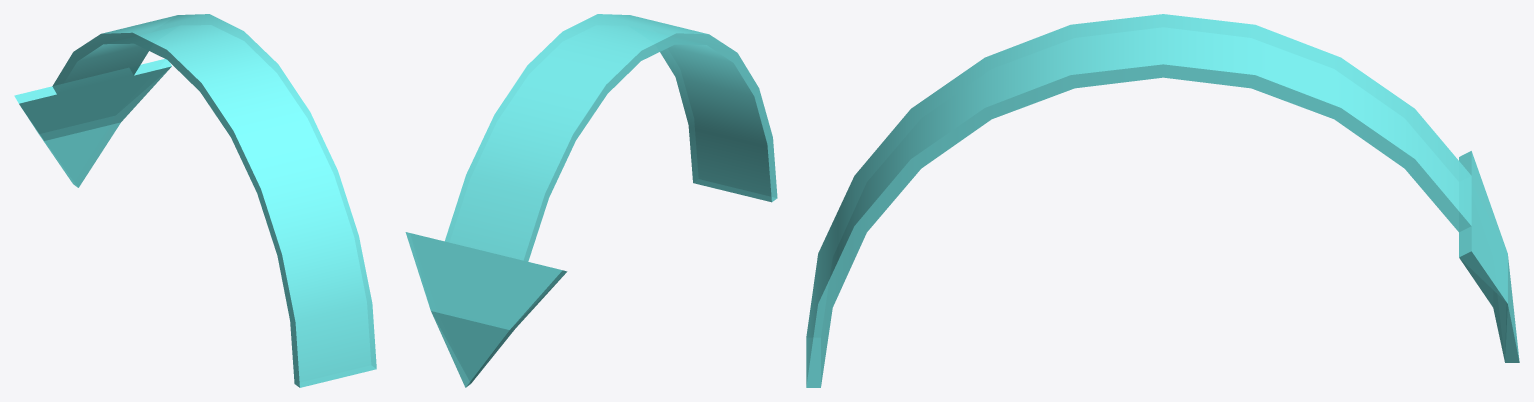
Rendered from arrow.glb.
The picture shows the model from 3 angles, left to right: view 1: azimuth 30°, elevation 25°; view 2: azimuth 150°, elevation 25°; view 3: azimuth 270°, elevation 25°; orthographic projection. The views are drawn at different scales.
Visible parts, largest first — view 1: Material2; view 2: Material2; view 3: Material2.
Part boxes in pixels (<box>): Material2: <box>14,14,376,387</box>; Material2: <box>405,14,777,387</box>; Material2: <box>806,14,1519,387</box>.
Bounding box in the file's own units: 8 × 12.01 × 24.
